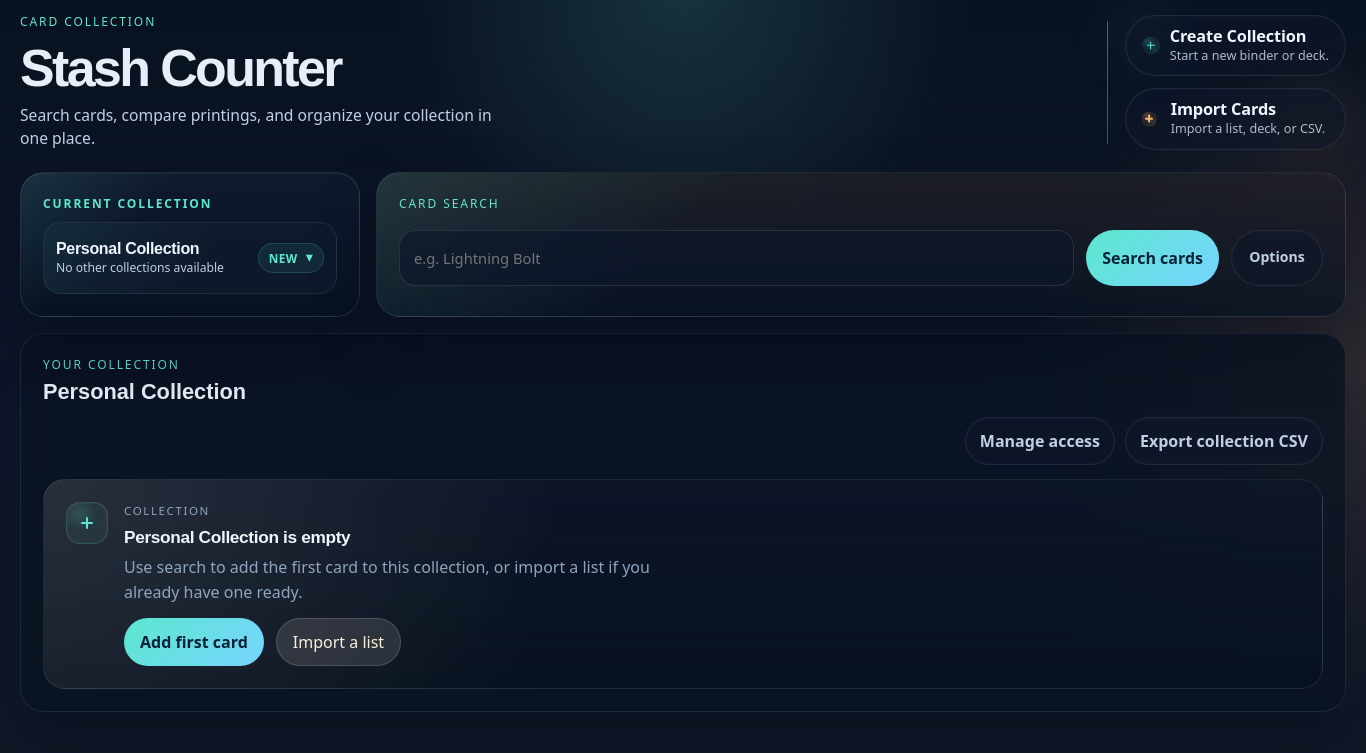
it: App › keeps regular focus mode from scrolling the page when a result is selected
In the dropdown named "Quick Add and Card Search": (737, 258) left=399, top=230, right=1074, bottom=286, type "lightn"
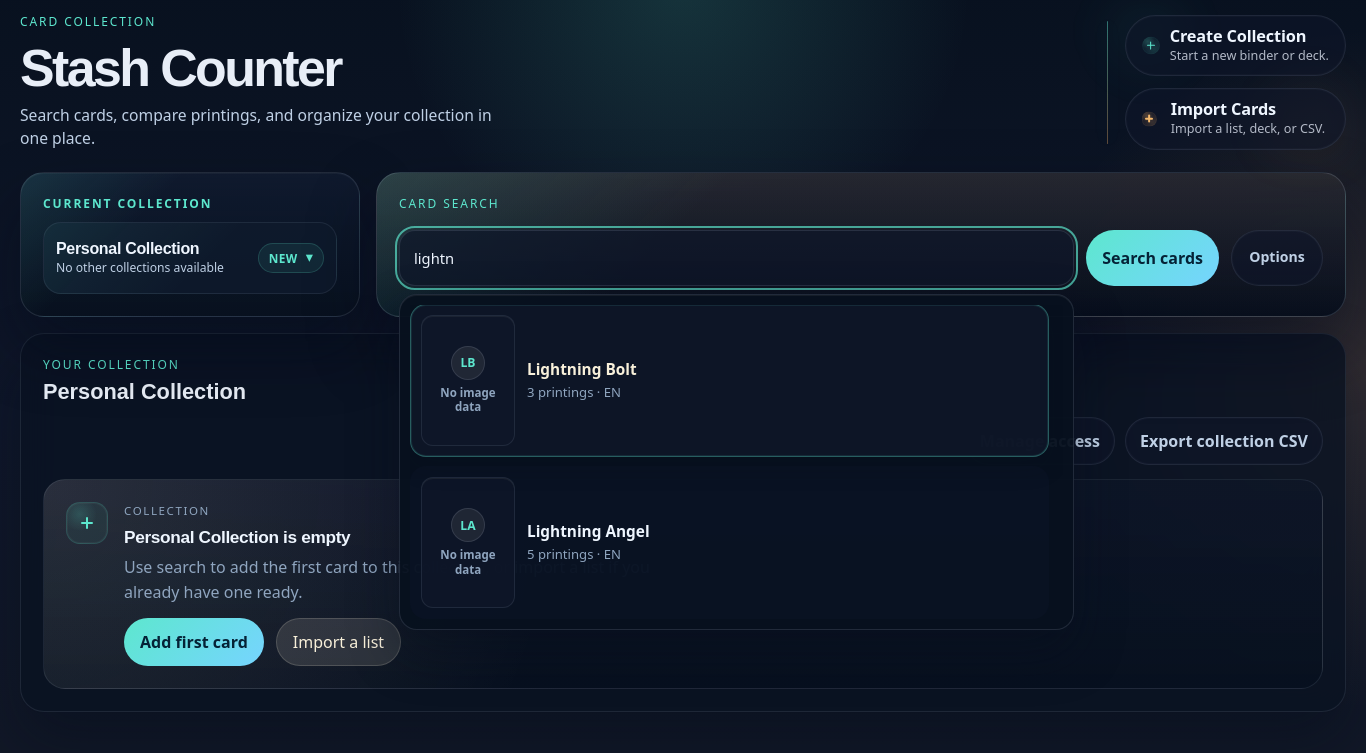
expect the option "LA No image data Lightning Angel 5 printings · EN" is shown: met, box left=410, top=466, right=1049, bottom=619
Click the button "Search cards": (1153, 258) left=1086, top=230, right=1219, bottom=286
(page scrolled)
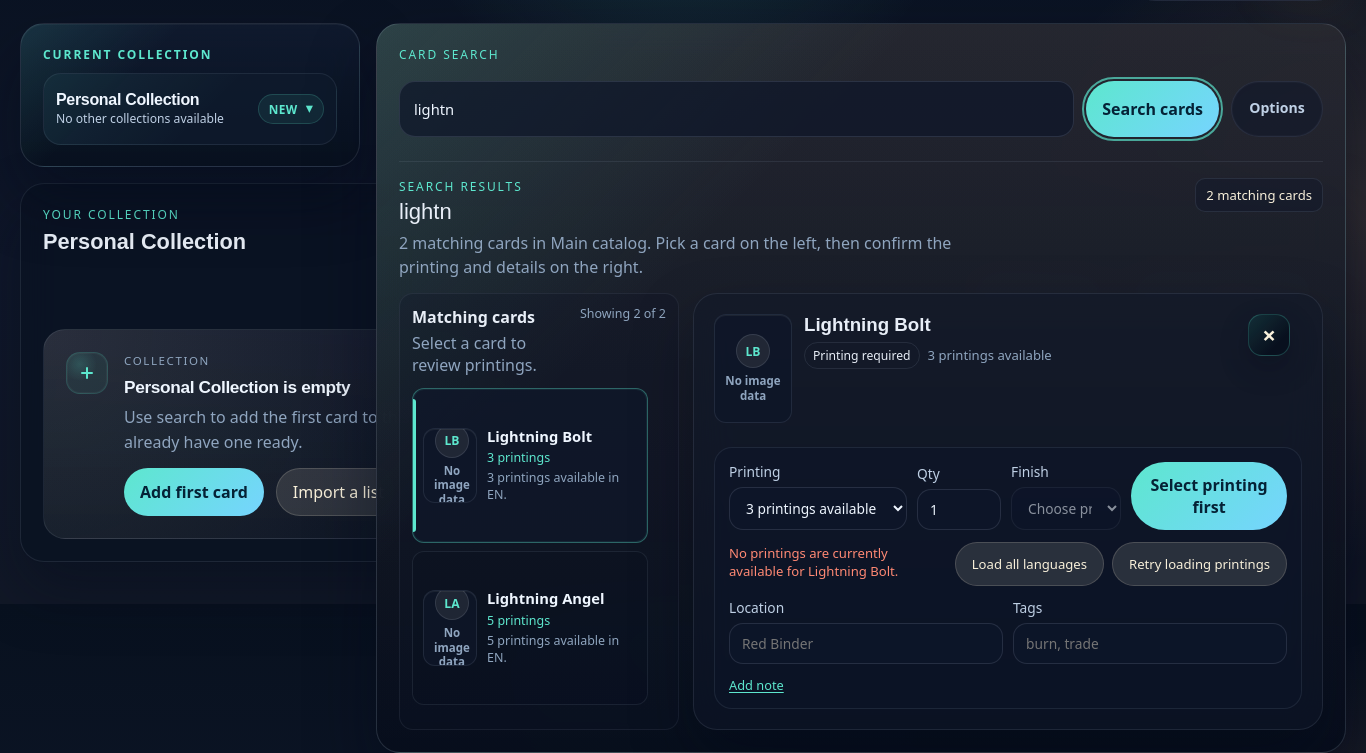
expect the text "Matching cards" is shown: met, box left=412, top=306, right=535, bottom=328
expect the element with class "search-workspace" is shown: met, box left=399, top=161, right=1323, bottom=730
Click the button "Lightning Angel": (530, 628) left=412, top=551, right=648, bottom=705
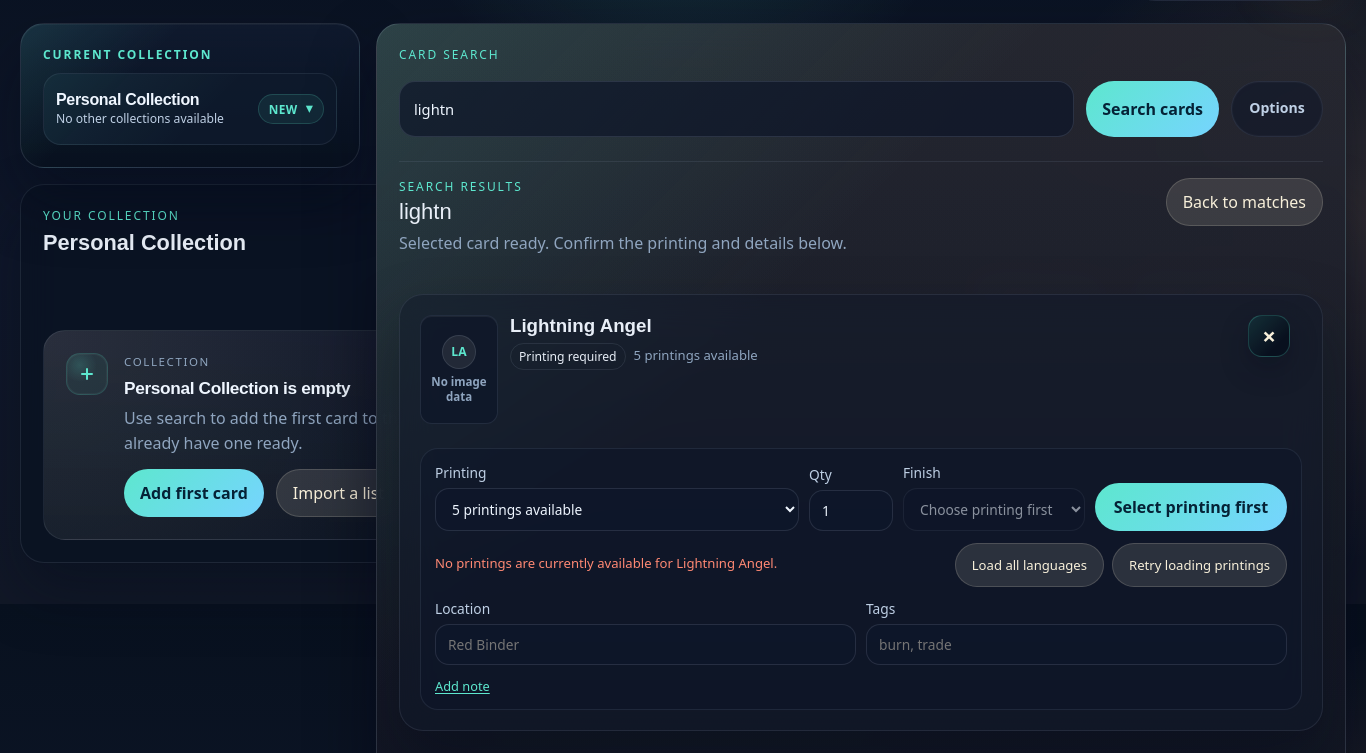
expect the text "Selected card ready. Confirm the printing and details below." is shown: met, box left=399, top=232, right=847, bottom=254
